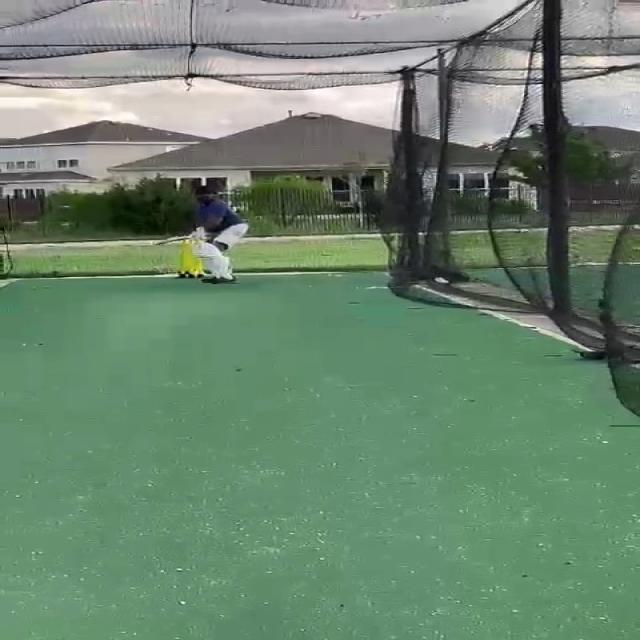batsman: (151, 184, 251, 286)
